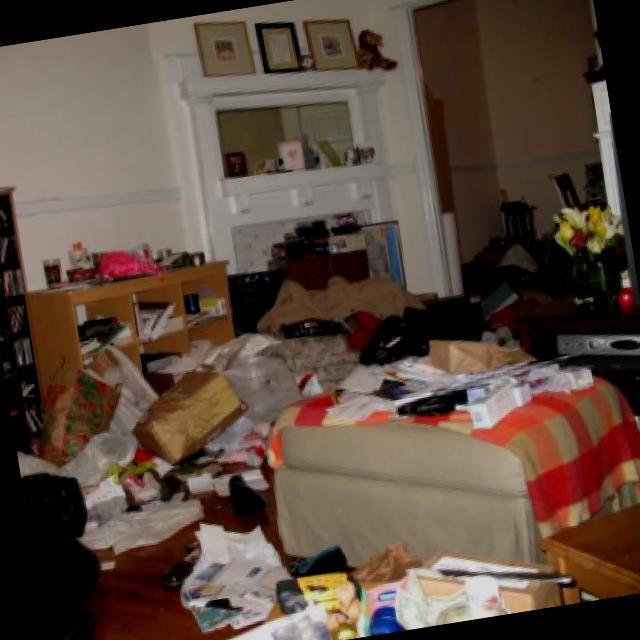mess: (45, 453, 556, 640), (273, 270, 640, 483), (62, 346, 288, 526), (23, 226, 236, 362), (205, 76, 402, 218), (0, 177, 59, 480)
